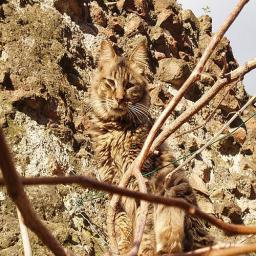catnose: (115, 95, 125, 106)
